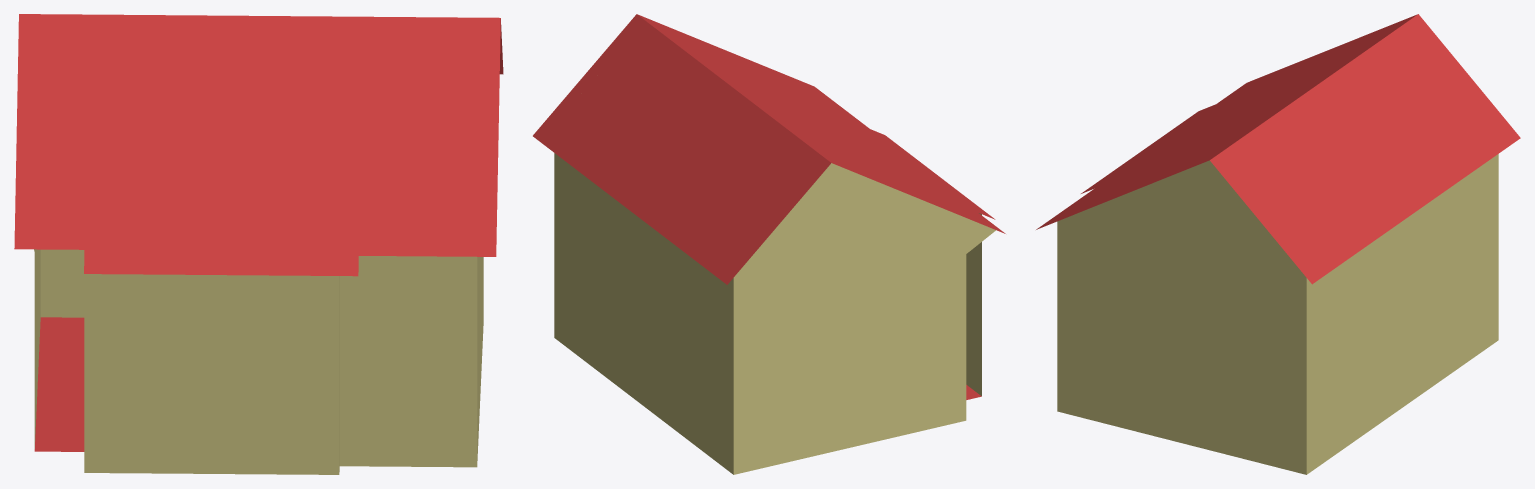
3 renders of one model, left to right at view 1: azimuth 30°, elevation 25°; view 2: azimuth 150°, elevation 25°; view 3: azimuth 270°, elevation 25°, orthographic. The views are drawn at different scales.
Size of the model in its own units: 23.54 by 22.35 by 15.13.
